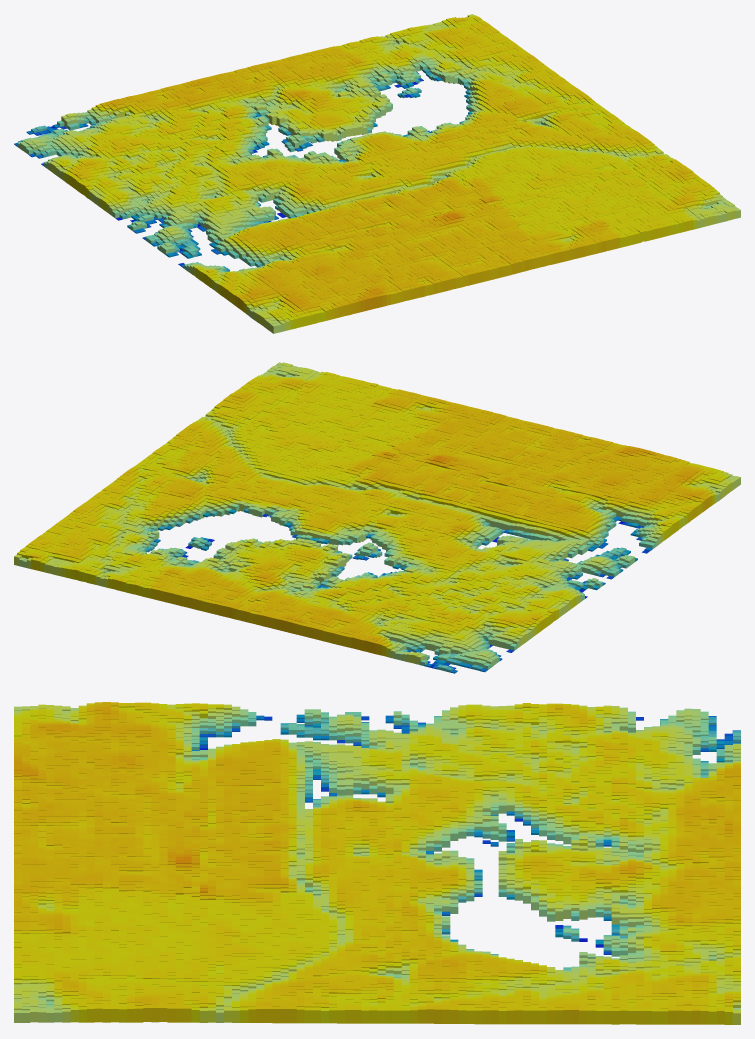
The model's file is population.glb.
3 renders of one model, top to bottom at view 1: azimuth 30°, elevation 25°; view 2: azimuth 150°, elevation 25°; view 3: azimuth 270°, elevation 25°, orthographic. The views are drawn at different scales.
Parts seen in each view (by area): view 1: population; view 2: population; view 3: population.
Boxes of the visible parts, x1,y1,x2,y2 form: population: [14, 14, 740, 333]; population: [14, 362, 740, 673]; population: [14, 702, 740, 1024].
Bounding box in the file's own units: 9030 × 356 × 8968.
